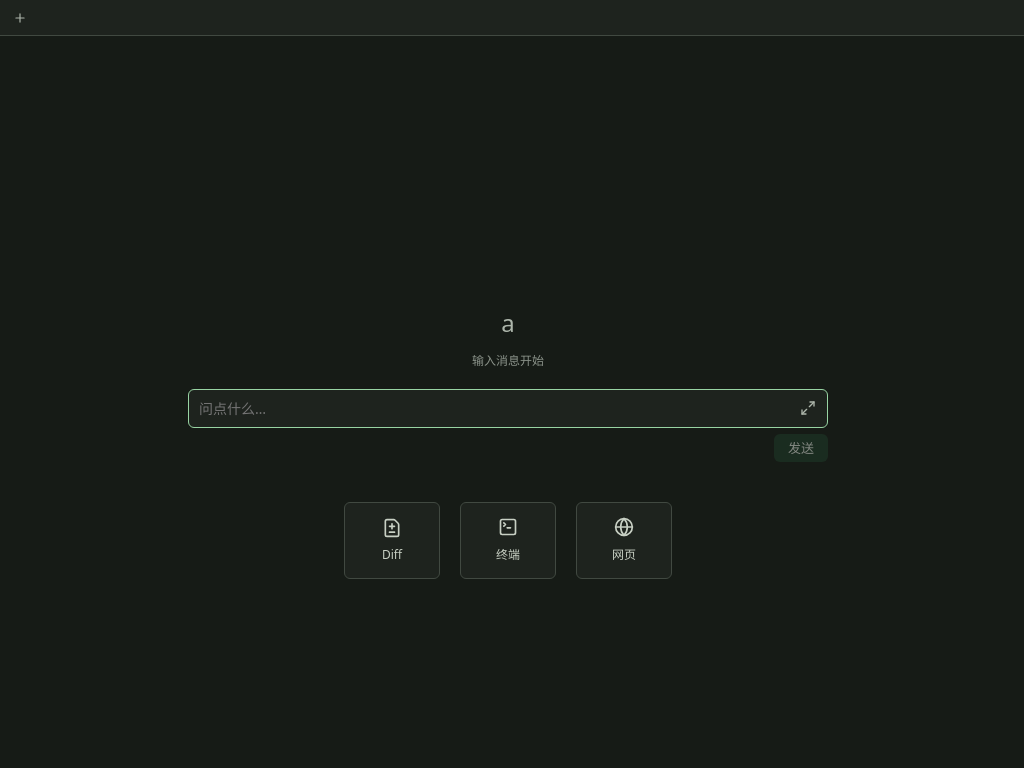
专注模式（design-focus-mode） › 入口点击 → 面板挂载 + 根抑制类 + CM 承接草稿
Type "# 草稿标题" into the text box with placeholder "问点什么…" at (495, 408), box [197,395,793,422]
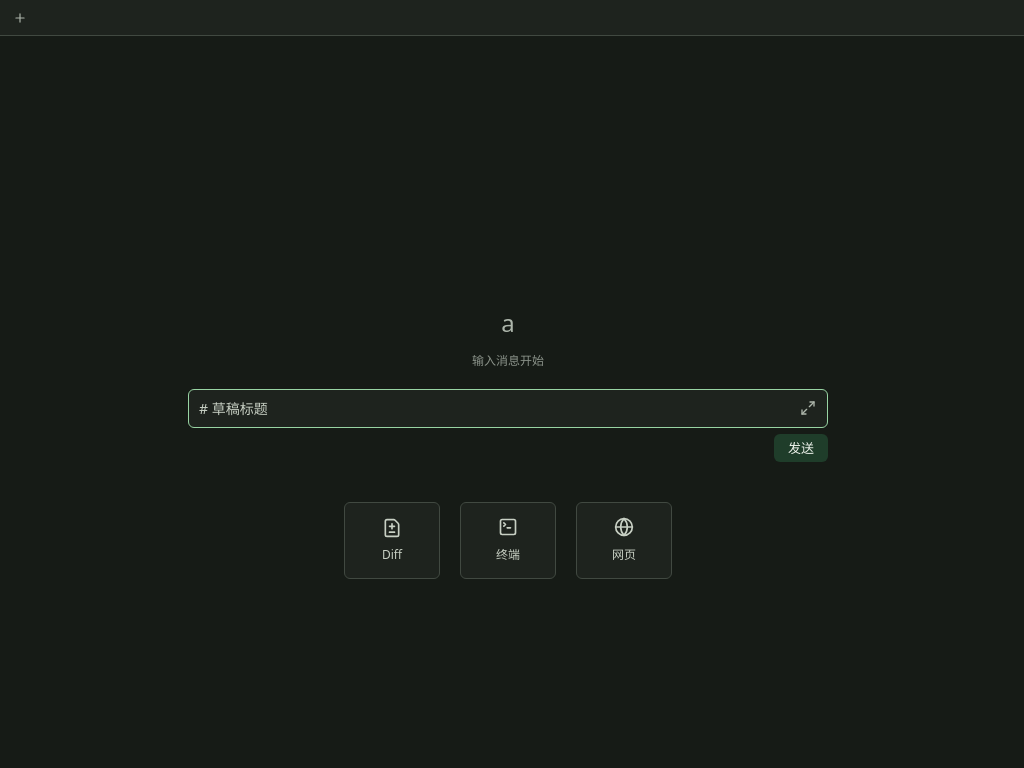
Click the button with class "focus-enter" at (808, 408), box [797,397,819,419]
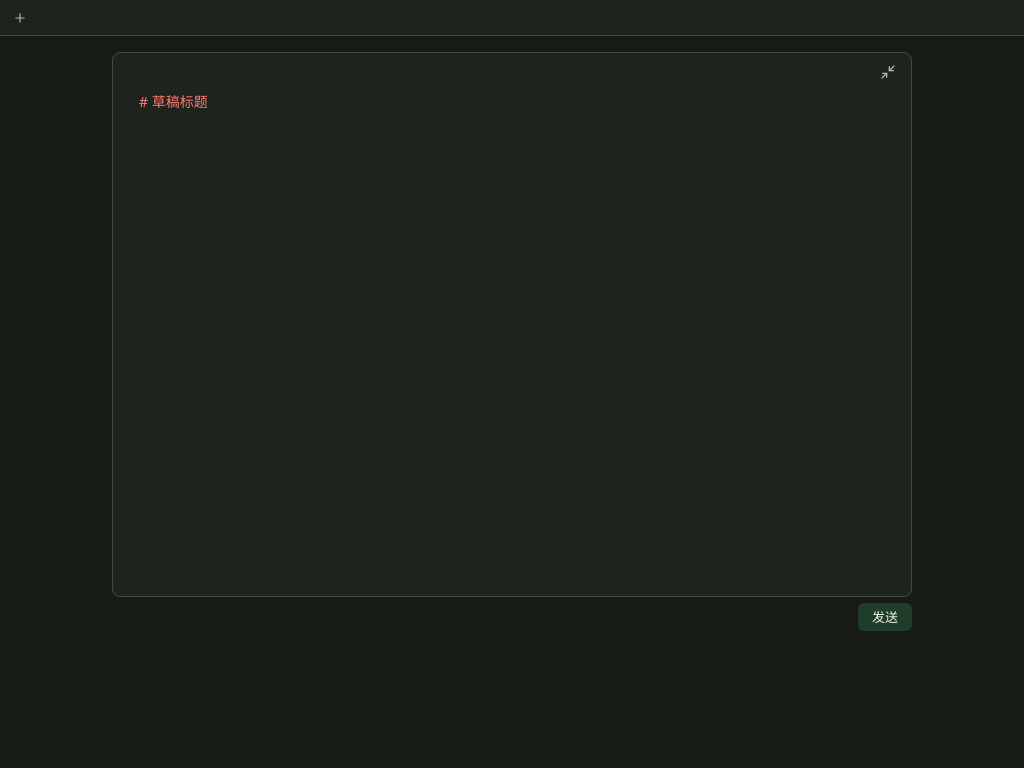
expect the element with class "focus-composer" is shown: met, box [112,52,912,596]
expect the field with class "cm-content" shows "草稿标题": met, box [139,92,208,111]
